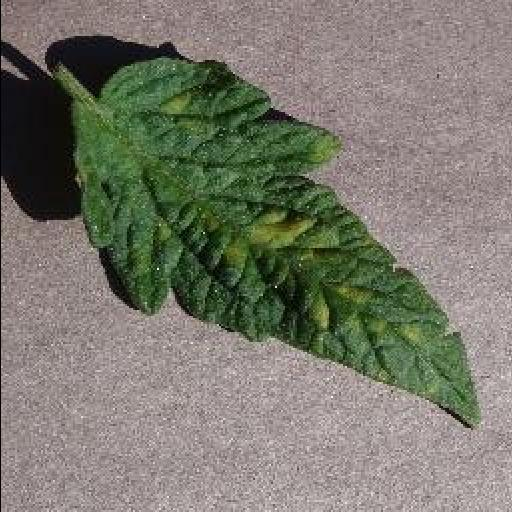disease_tomato: (70, 56, 480, 426)
